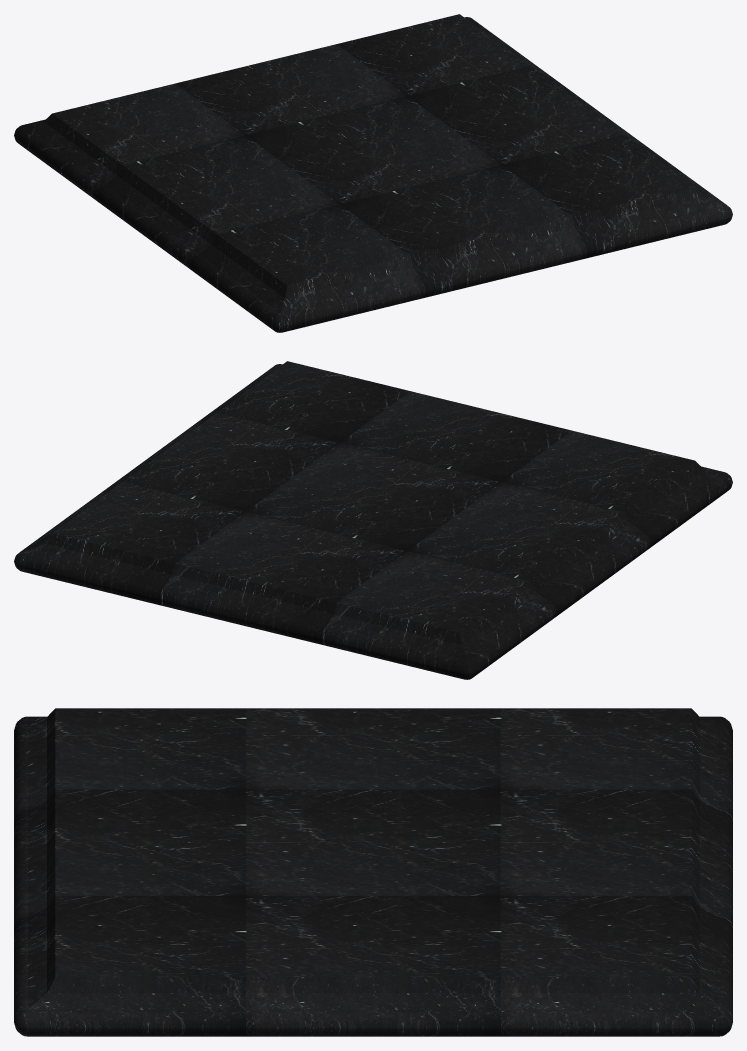
File: board_bottom3.glb
3 views of the same model, one above another, from view 1: azimuth 30°, elevation 25°; view 2: azimuth 150°, elevation 25°; view 3: azimuth 270°, elevation 25° (orthographic). The views are drawn at different scales.
Visible parts, largest first — view 1: ChamferBox001; view 2: ChamferBox001; view 3: ChamferBox001.
Boxes of the visible parts, bbox=[...] form: ChamferBox001: bbox=[14, 14, 732, 332]; ChamferBox001: bbox=[14, 361, 732, 679]; ChamferBox001: bbox=[14, 708, 732, 1036].
Bounding box in the file's own units: 17.78 × 1.27 × 17.78.
1 material, 1 textured.
